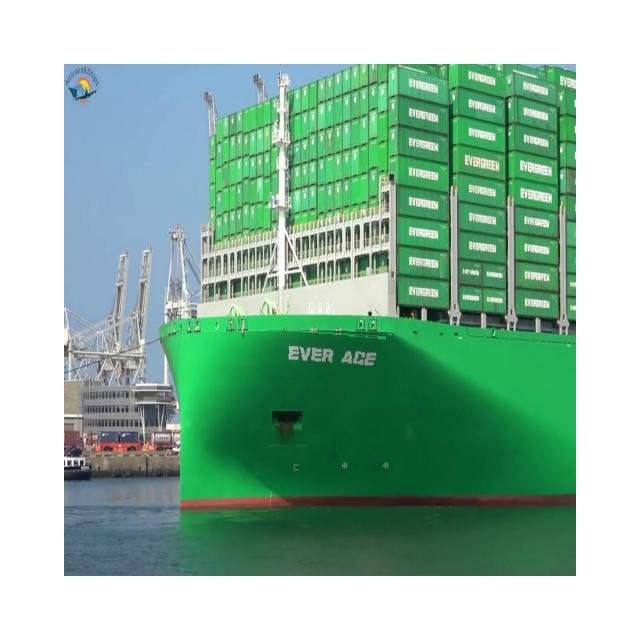OCR: (280, 329, 386, 380)
